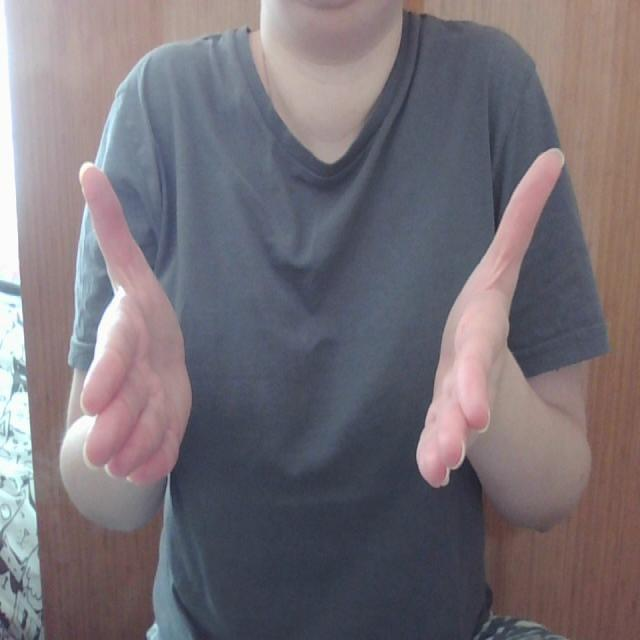Nasil: (65, 144, 572, 491)
